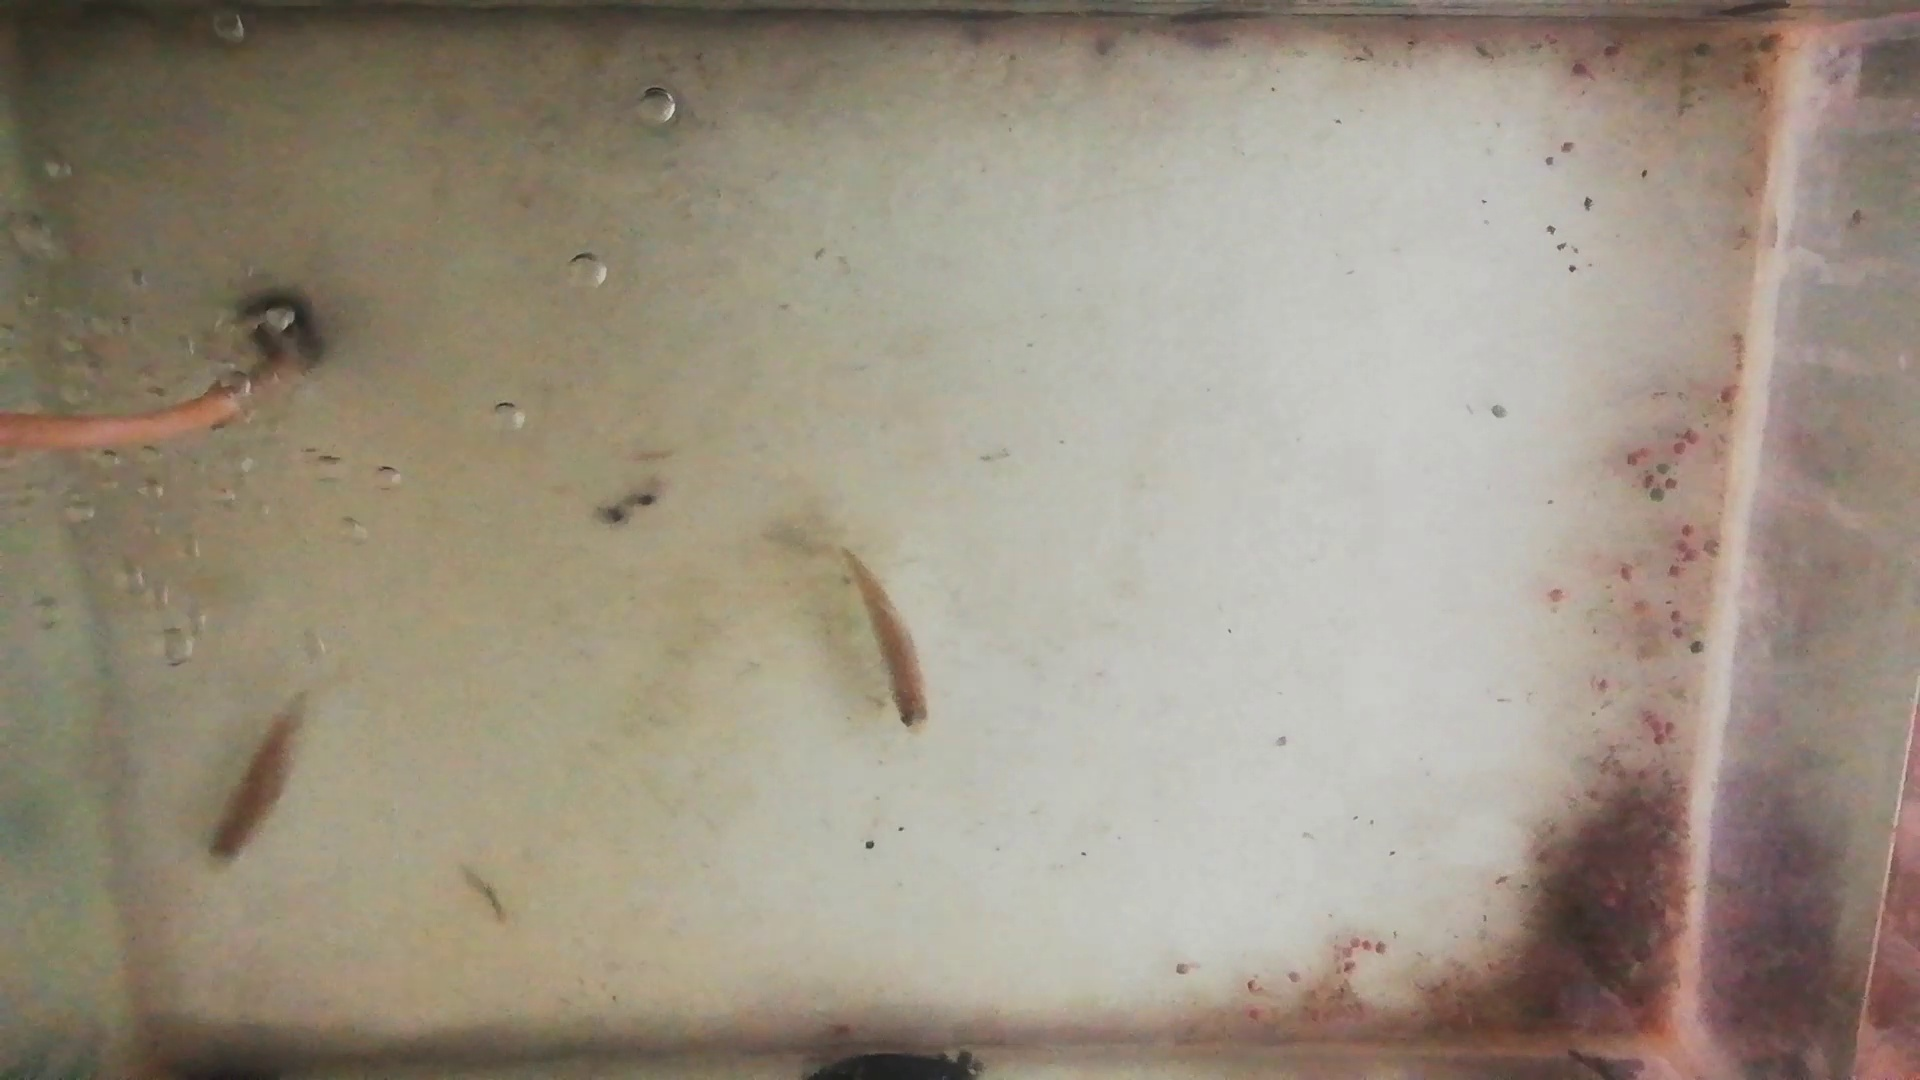fish: (839, 545, 930, 740), (204, 698, 301, 868)
